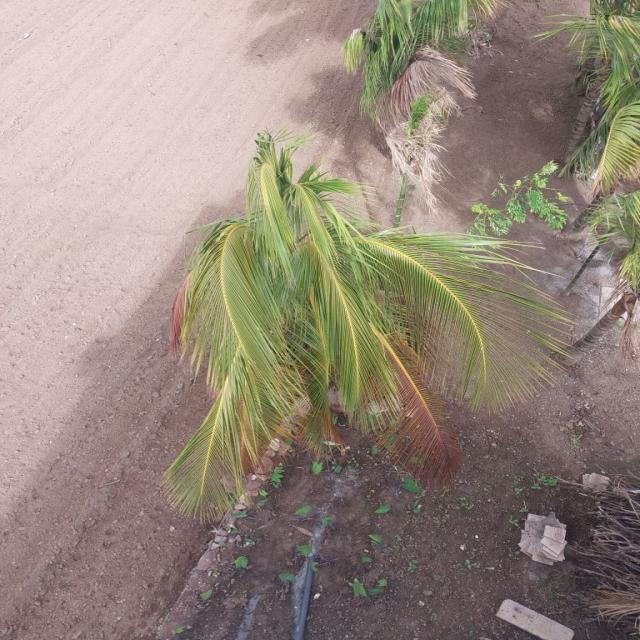bud root dropping: (163, 132, 568, 519)
